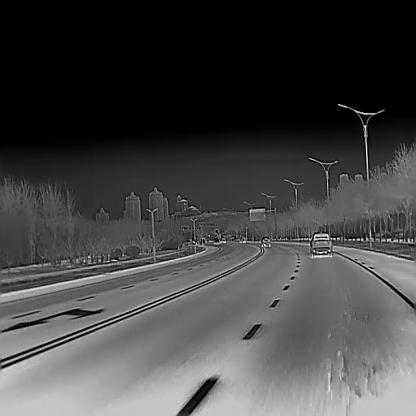car: (309, 230, 332, 257), (260, 236, 270, 247), (238, 236, 246, 243), (219, 238, 226, 243)
